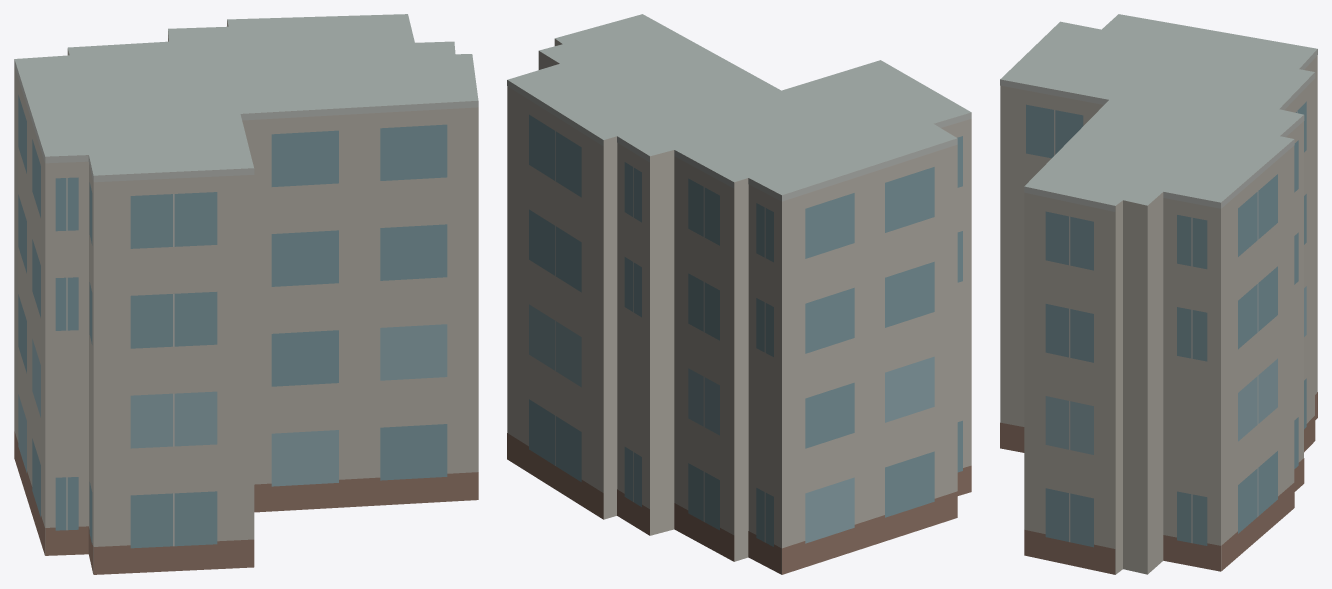
File: survey-upis-32497104.glb
The picture shows the model from 3 angles, left to right: view 1: azimuth 30°, elevation 25°; view 2: azimuth 150°, elevation 25°; view 3: azimuth 270°, elevation 25°; orthographic projection. The views are drawn at different scales.
Visible parts, largest first — view 1: survey-upis-32497104.tmp; view 2: survey-upis-32497104.tmp; view 3: survey-upis-32497104.tmp.
Part boxes in pixels (box(x1,y1,x2,y2)): survey-upis-32497104.tmp: box(14, 14, 478, 574); survey-upis-32497104.tmp: box(507, 14, 971, 574); survey-upis-32497104.tmp: box(1000, 14, 1317, 574).
Size of the model in its own units: 16.3 by 14.6 by 11.4.
